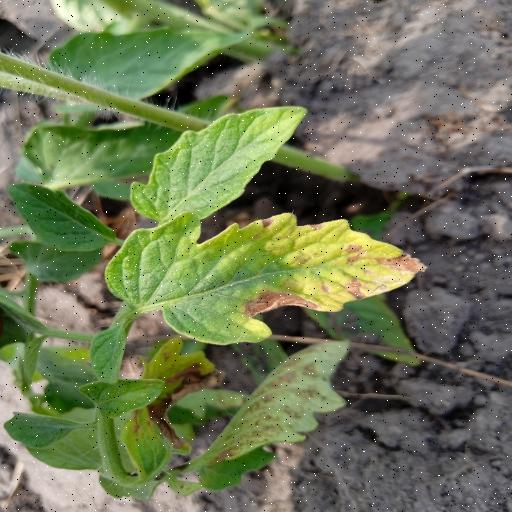Tomato_Brown_Spots: (107, 209, 430, 345), (181, 339, 363, 493), (126, 102, 310, 229)
